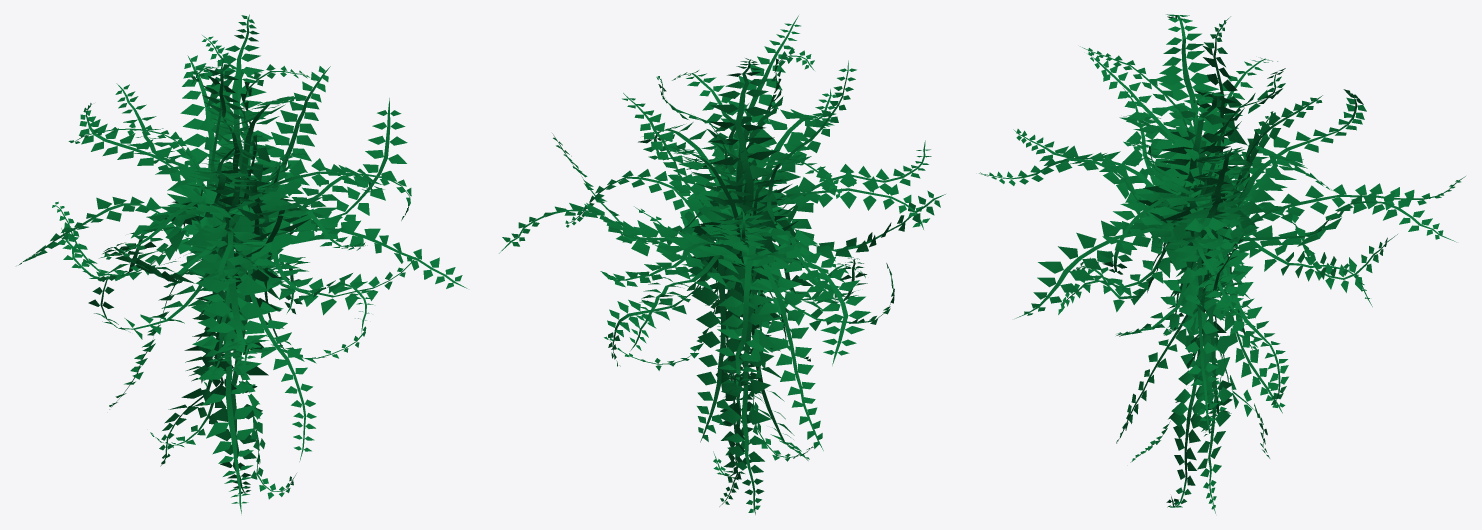
Rendered from Climbing Vine 2.FBX.
3 views of the same model, side by side, from view 1: azimuth 30°, elevation 25°; view 2: azimuth 150°, elevation 25°; view 3: azimuth 270°, elevation 25° (orthographic). The views are drawn at different scales.
Visible parts, largest first — view 1: 0, 01; view 2: 0, 01; view 3: 0, 01.
Part boxes in pixels (x1,y1,x2,y2): 0: (18, 14, 467, 288); 01: (52, 98, 416, 513); 0: (499, 15, 931, 365); 01: (552, 133, 945, 514); 0: (979, 14, 1465, 319); 01: (1058, 88, 1397, 513).
Bounding box in the file's own units: 940 × 1211 × 1124.
